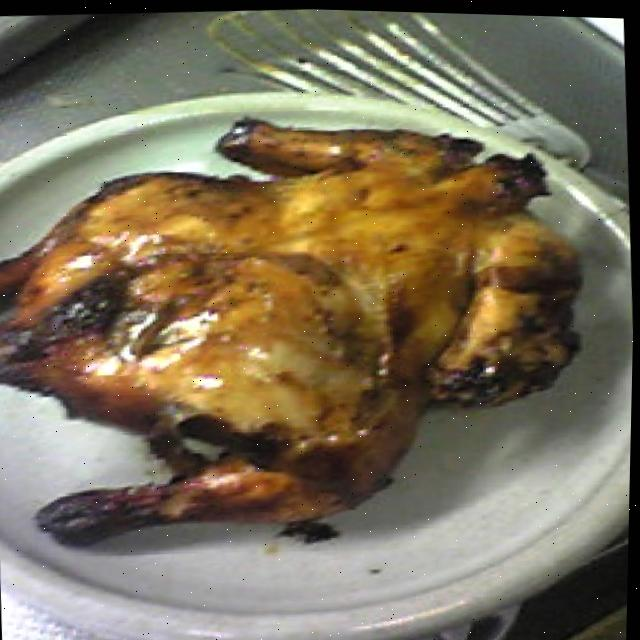鸡肉料理 含炸鸡: (0, 77, 594, 575)
